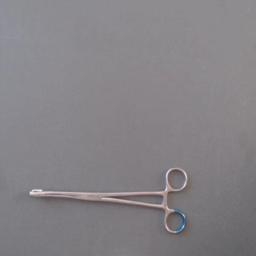Sponge Forceps: (24, 162, 194, 242)
